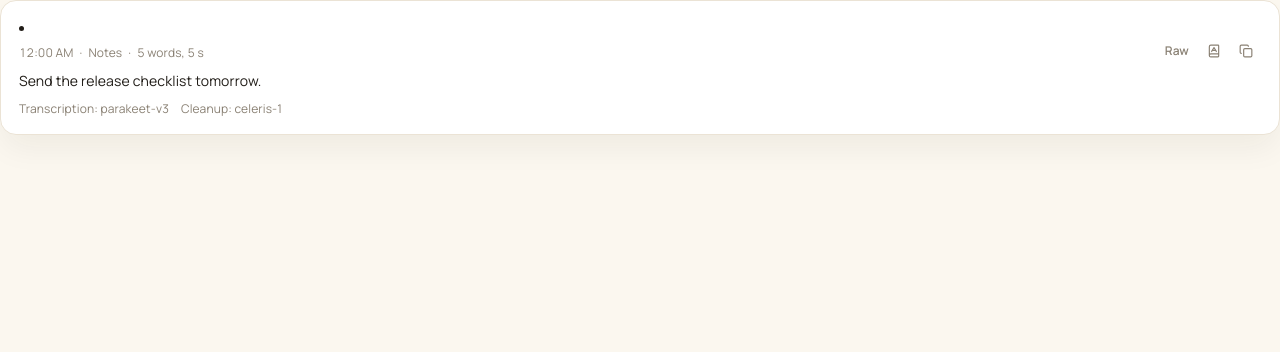
add to dictionary › fills Sounds like from a raw selection made before the form opens
The image size is (1280, 352).
Click the button "Raw" at (1177, 50), box top-left (1157, 38), bottom-right (1197, 64)
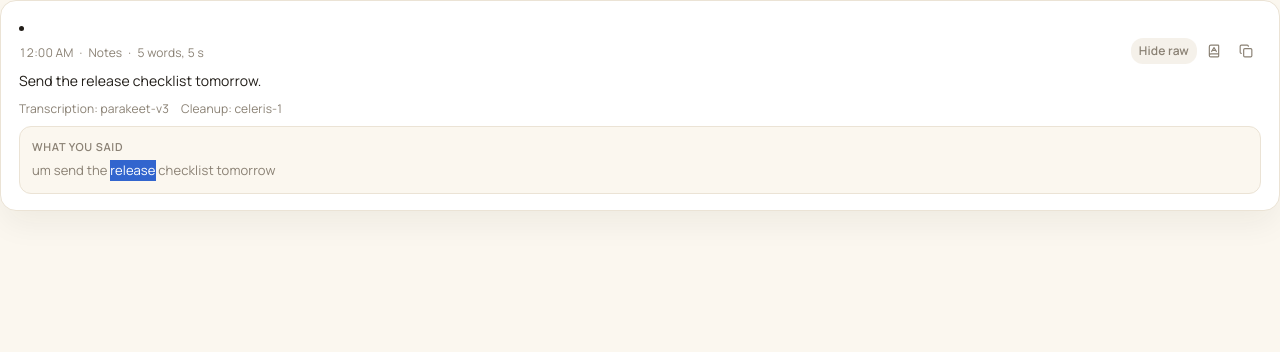
Click the button named "Add to dictionary" at (1214, 50), box top-left (1199, 40), bottom-right (1229, 62)
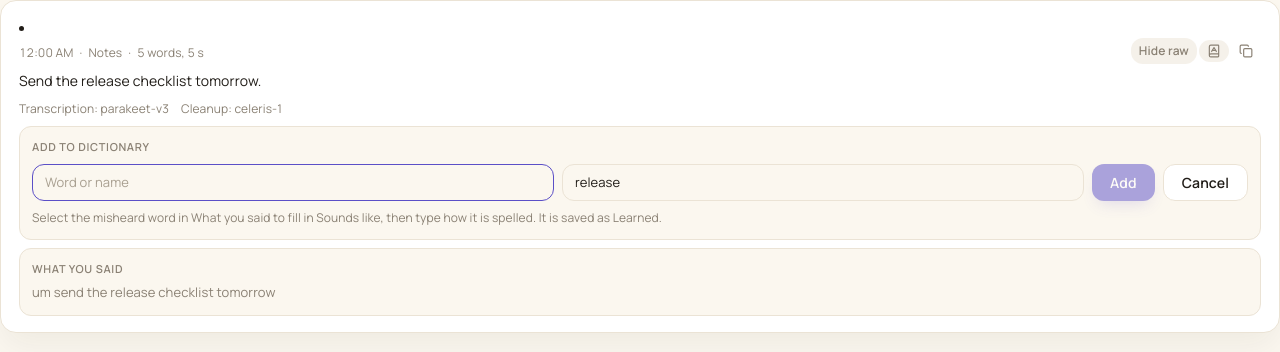
Expected: the field named "Sounds like" holds "release", top-left (562, 164), bottom-right (1084, 201)
